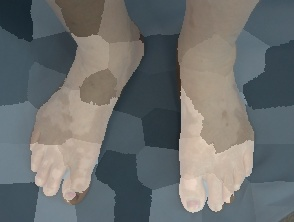vitiligo: (20, 0, 153, 212), (173, 0, 260, 216)
